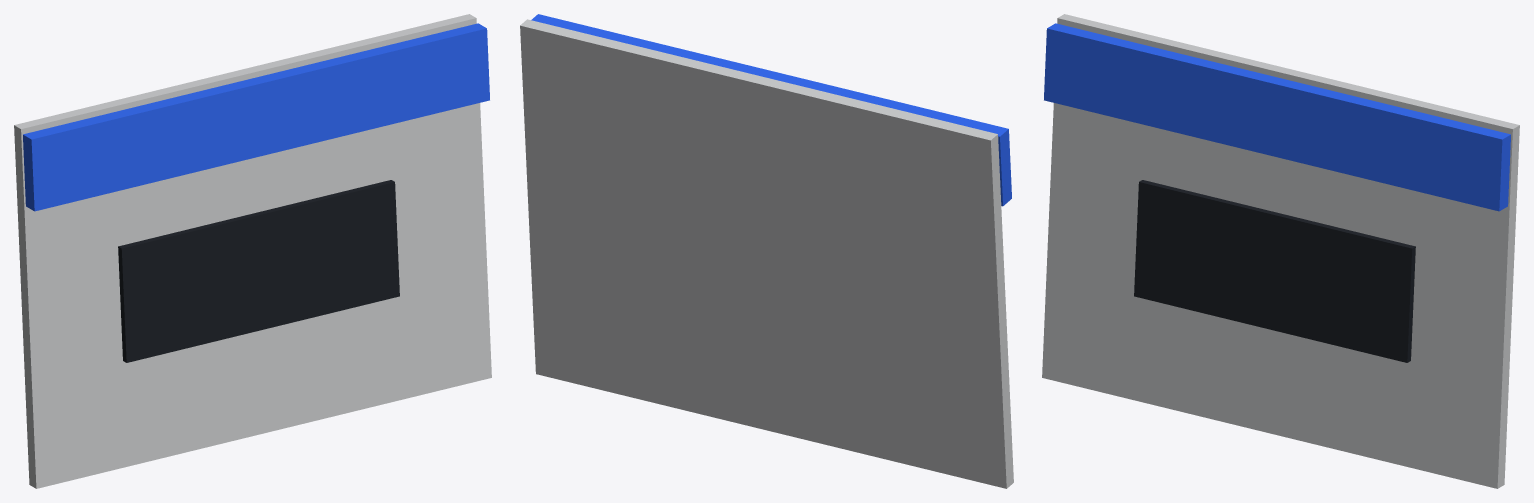
File: accessory_bib_male.glb
3 views of the same model, side by side, from view 1: azimuth 30°, elevation 25°; view 2: azimuth 150°, elevation 25°; view 3: azimuth 330°, elevation 25° (orthographic). The views are drawn at different scales.
Visible parts, largest first — view 1: bib, bib_band, bib_number; view 2: bib, bib_band; view 3: bib, bib_band, bib_number.
Boxes of the visible parts, x1,y1,x2,y2 form: bib: (14,14,491,488); bib_band: (23,23,489,211); bib_number: (118,180,399,362); bib: (520,19,1013,488); bib_band: (531,14,1011,206); bib: (1042,14,1519,488); bib_band: (1044,23,1510,211); bib_number: (1134,180,1415,362).
Size of the model in its own units: 0.15 by 0.11 by 0.0128.
